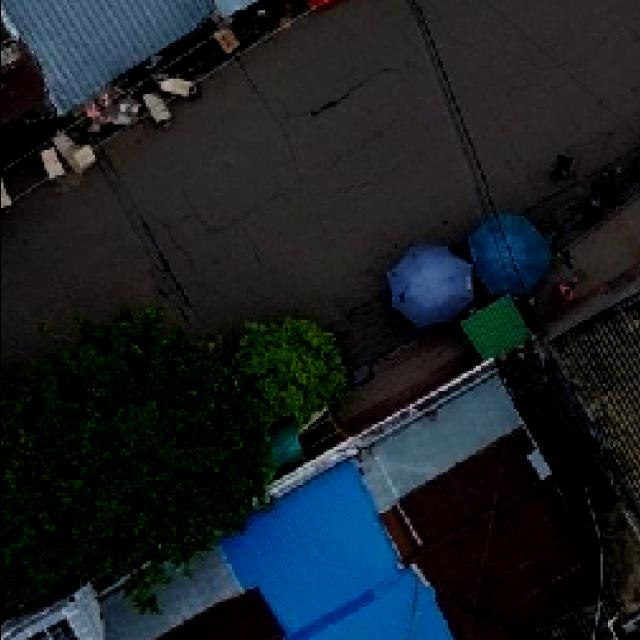vendedor_ambulante: (462, 208, 552, 298), (381, 240, 471, 330)
